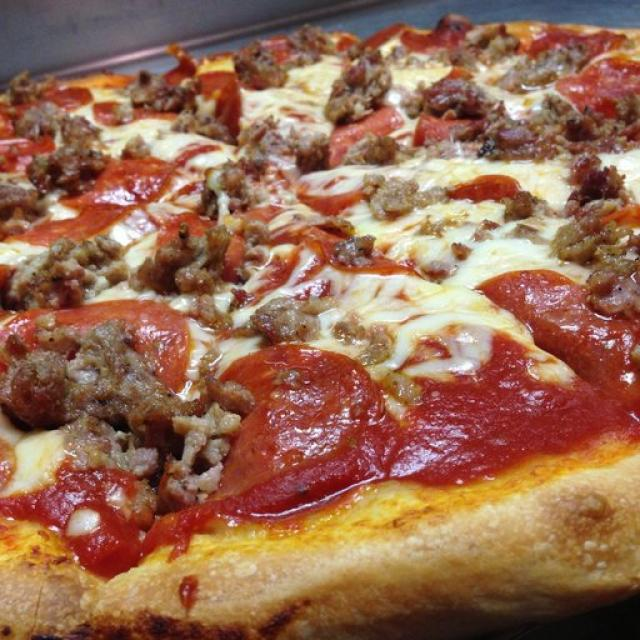Beef: (12, 332, 238, 495), (9, 106, 106, 232), (427, 85, 561, 157), (10, 235, 127, 302), (566, 219, 640, 315), (149, 237, 227, 328), (328, 59, 386, 120), (501, 48, 587, 88), (569, 115, 640, 151), (460, 28, 515, 72), (257, 304, 316, 344), (233, 54, 297, 90), (364, 179, 417, 216), (210, 161, 246, 214), (288, 31, 329, 60)
Pizza: (0, 15, 640, 640)
Tomato: (230, 357, 377, 488), (479, 269, 640, 388), (34, 306, 190, 384), (28, 158, 178, 238), (261, 234, 335, 300), (563, 64, 640, 116), (326, 108, 399, 154), (201, 71, 240, 126), (449, 172, 520, 200), (295, 182, 365, 208), (421, 113, 472, 145), (0, 136, 52, 162)
